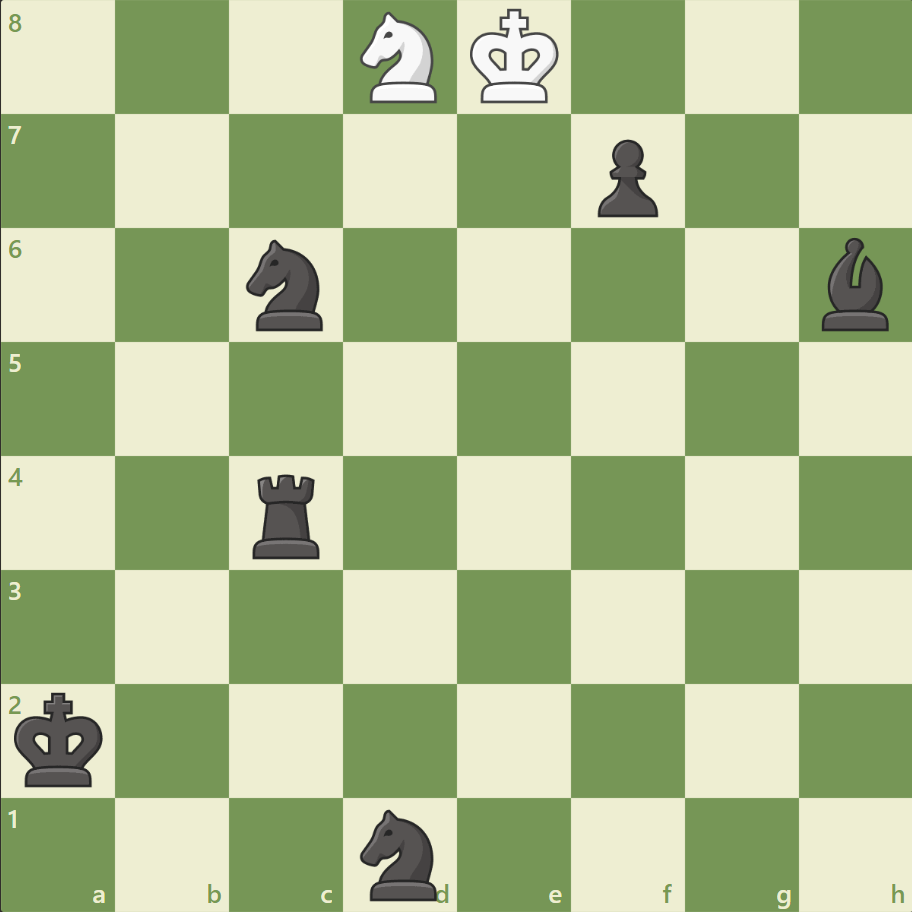K: (465, 4, 565, 112)
N: (351, 7, 449, 110)
b: (812, 233, 896, 336)
k: (11, 685, 111, 793)
n: (351, 802, 449, 904), (238, 234, 335, 337)
p: (588, 132, 662, 223)
r: (246, 466, 329, 563)
